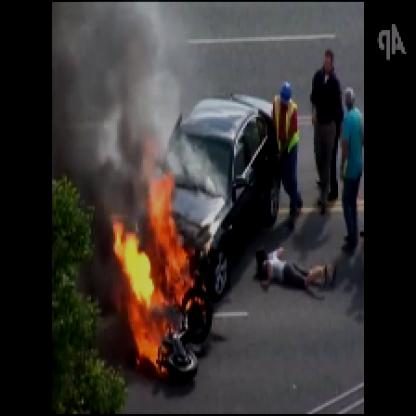Fire: (117, 147, 208, 373)
Smoke: (58, 2, 178, 173)
